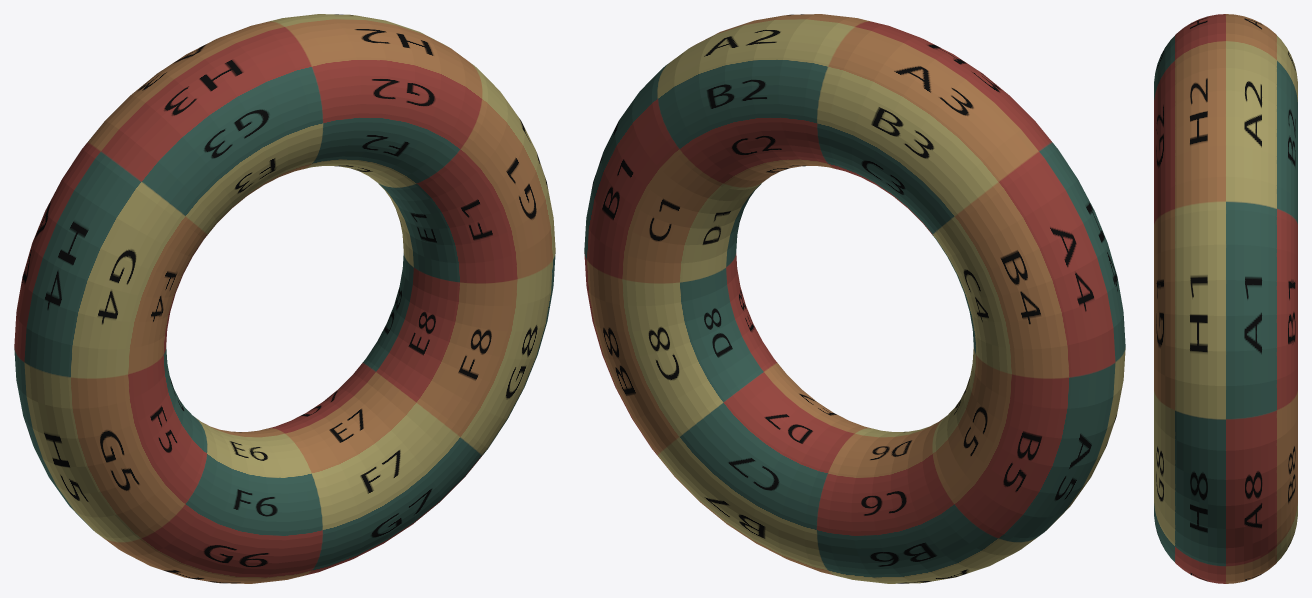
File: texture_torus_R27_r28.glb
3 renders of one model, left to right at view 1: azimuth 30°, elevation 25°; view 2: azimuth 150°, elevation 25°; view 3: azimuth 270°, elevation 25°, orthographic. The views are drawn at different scales.
Visible parts, largest first — view 1: world; view 2: world; view 3: world.
Part boxes in pixels (x1,y1,x2,y2): world: (14,14,555,583); world: (584,14,1125,583); world: (1154,14,1297,583).
Size of the model in its own units: 37.47 by 37.39 by 9.45.
Materials: 1 (1 with a texture image).
